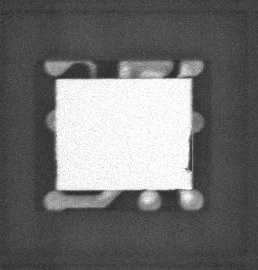DIE_BROKEN: (182, 131, 194, 171)
